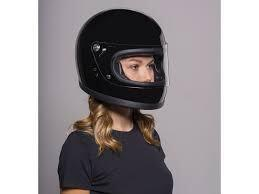helmet: (74, 8, 170, 111)
